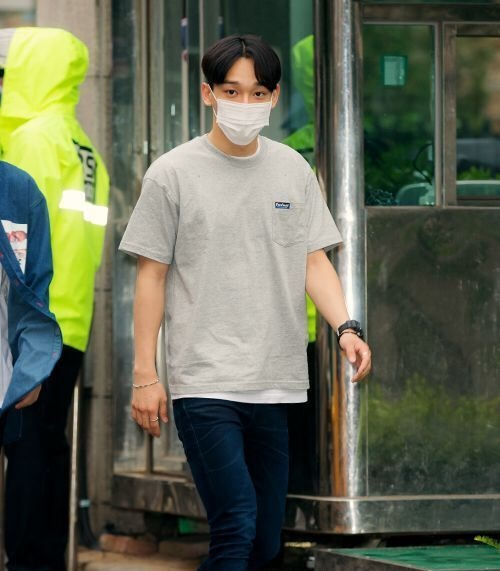face_mask: (212, 58, 270, 141)
